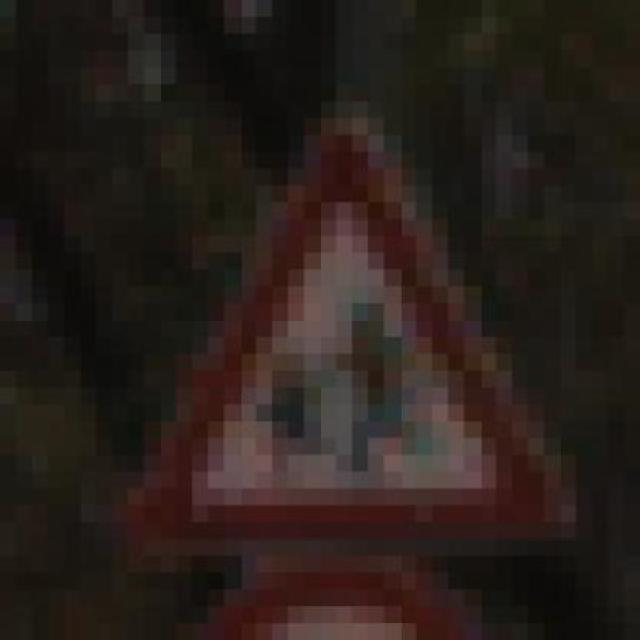Beware of children: (112, 118, 576, 556)
